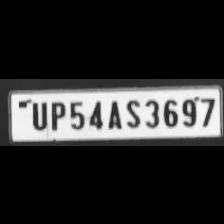3: (142, 95, 160, 127)
4: (86, 96, 104, 130)
5: (66, 97, 86, 129)
6: (160, 95, 178, 127)
7: (196, 93, 216, 127)
9: (178, 94, 198, 126)
A: (104, 96, 122, 128)
P: (47, 98, 65, 130)
S: (122, 95, 140, 127)
U: (28, 98, 48, 130)
